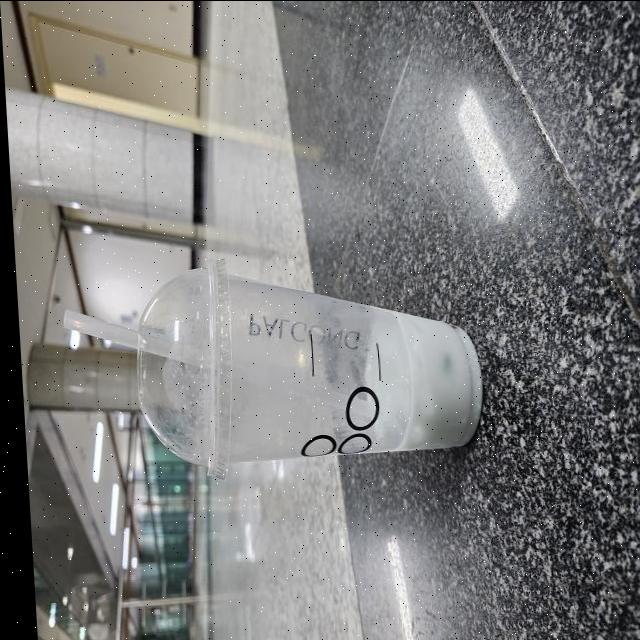cup: (119, 256, 486, 495)
